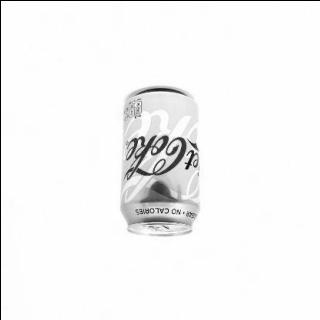alumunium_can: (118, 86, 200, 237)
